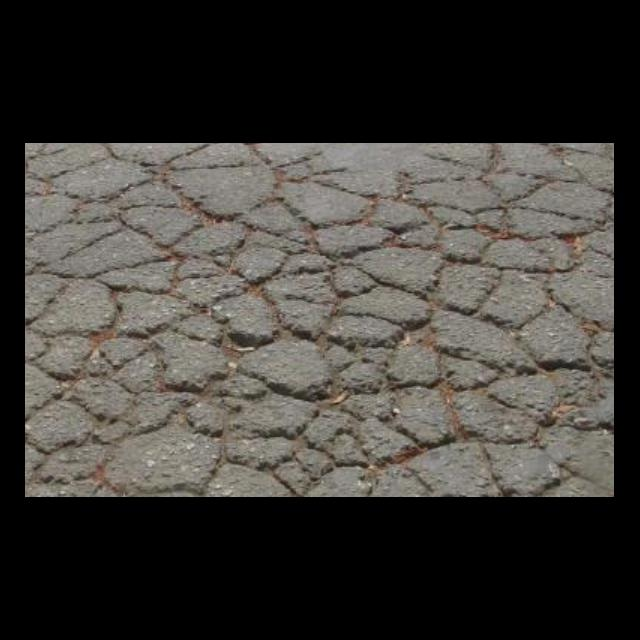retak_kulit_buaya: (26, 143, 614, 497)
